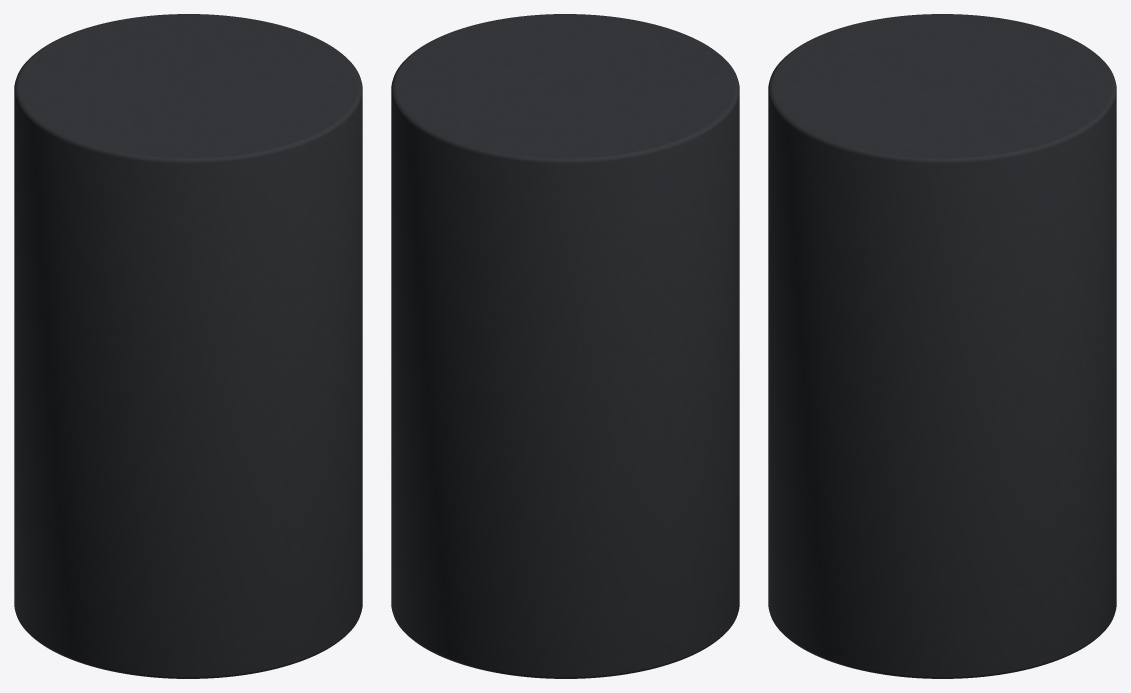
The model's file is caster_link_servo_black.obj.
3 views of the same model, side by side, from view 1: azimuth 30°, elevation 25°; view 2: azimuth 150°, elevation 25°; view 3: azimuth 270°, elevation 25° (orthographic).
Parts seen in each view (by area): view 1: caster_link__front_hub; view 2: caster_link__front_hub; view 3: caster_link__front_hub.
Part boxes in pixels (x1=…): caster_link__front_hub: x1=14, y1=14, x2=362, y2=678; caster_link__front_hub: x1=391, y1=14, x2=739, y2=678; caster_link__front_hub: x1=768, y1=14, x2=1116, y2=678.
Size of the model in its own units: 0.034 by 0.056 by 0.034.
1 material, 1 textured.
